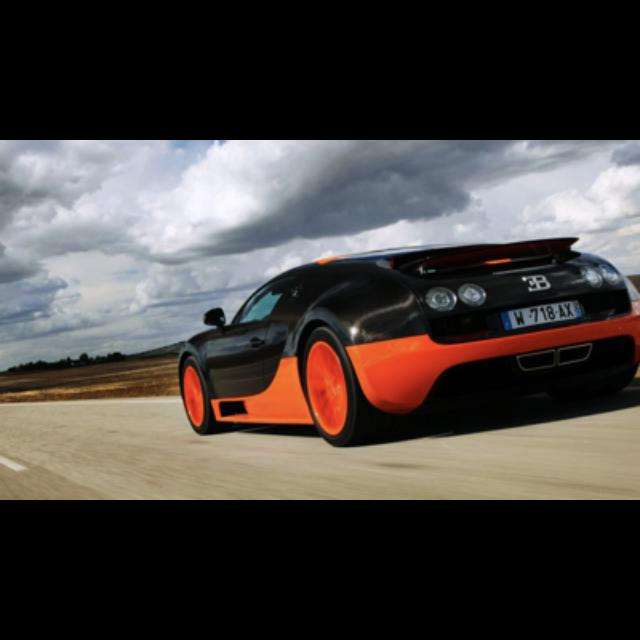carPlate: (500, 299, 584, 331)
